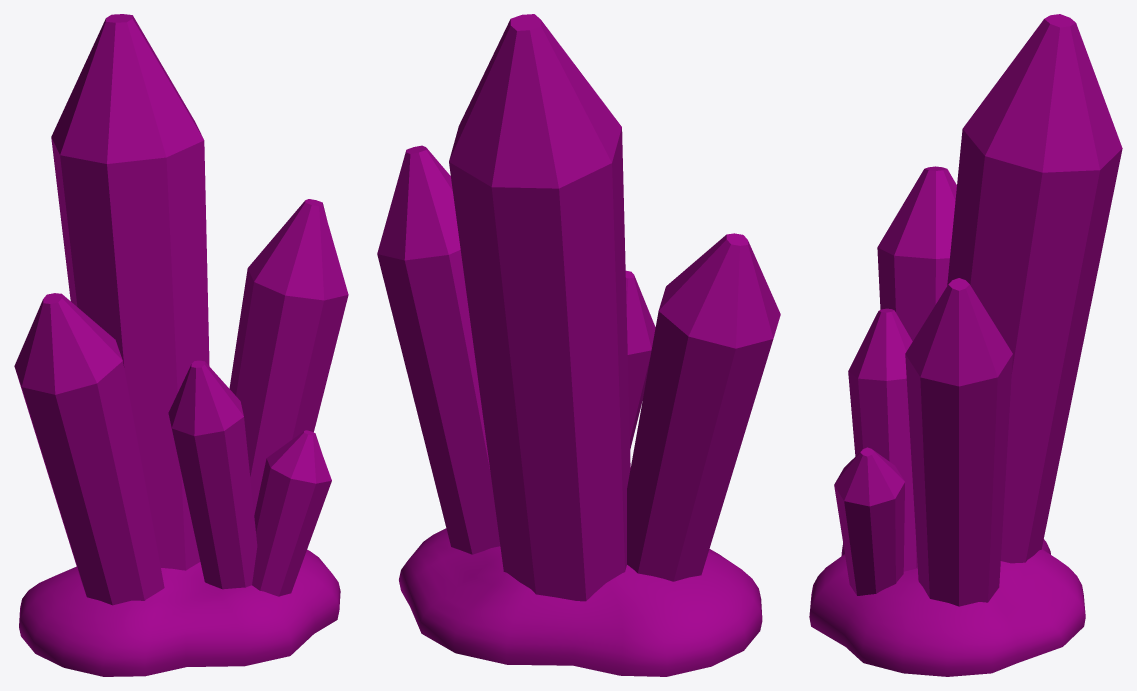
The model's file is Crystals_001.fbx.
3 views of the same model, side by side, from view 1: azimuth 30°, elevation 25°; view 2: azimuth 150°, elevation 25°; view 3: azimuth 270°, elevation 25° (orthographic). The views are drawn at different scales.
Parts seen in each view (by area): view 1: crystals_geo; view 2: crystals_geo; view 3: crystals_geo.
Part boxes in pixels (x1=…): crystals_geo: x1=14, y1=14, x2=348, y2=676; crystals_geo: x1=377, y1=14, x2=780, y2=676; crystals_geo: x1=809, y1=14, x2=1122, y2=676.
Bounding box in the file's own units: 8.46 × 13.71 × 6.68.
